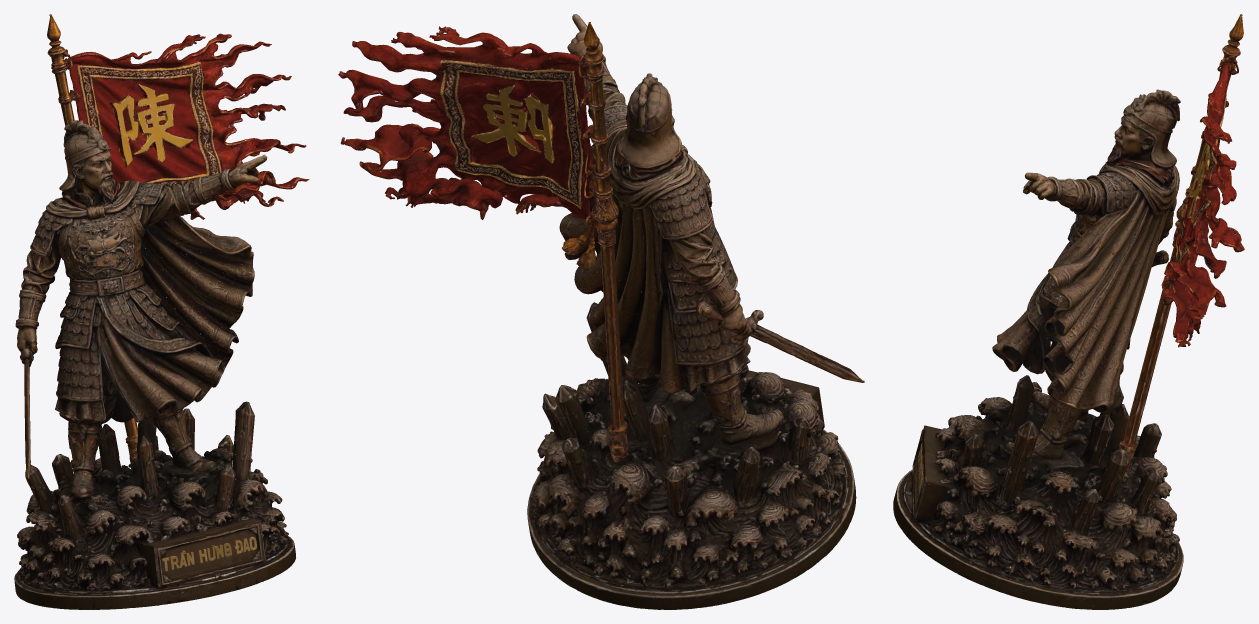
Rendered from tuong3d4.glb.
3 renders of one model, left to right at view 1: azimuth 30°, elevation 25°; view 2: azimuth 150°, elevation 25°; view 3: azimuth 270°, elevation 25°, orthographic. The views are drawn at different scales.
Visible parts, largest first — view 1: THD_THD_0, tripo_node_c3946faf_tripo_mat_c3946faf_0, TEXT_TEXT_0; view 2: THD_THD_0, tripo_node_c3946faf_tripo_mat_c3946faf_0; view 3: THD_THD_0, tripo_node_c3946faf_tripo_mat_c3946faf_0.
Boxes of the visible parts, box(x1,y1,x2,y2) form: THD_THD_0: box(14, 120, 295, 609); tripo_node_c3946faf_tripo_mat_c3946faf_0: box(47, 14, 309, 469); TEXT_TEXT_0: box(161, 536, 256, 571); THD_THD_0: box(527, 14, 864, 609); tripo_node_c3946faf_tripo_mat_c3946faf_0: box(338, 22, 628, 473); THD_THD_0: box(893, 89, 1183, 609); tripo_node_c3946faf_tripo_mat_c3946faf_0: box(1118, 14, 1244, 482).
Bounding box in the file's own units: 0.7419 × 1.02 × 0.5875.
3 materials, 3 textured.
